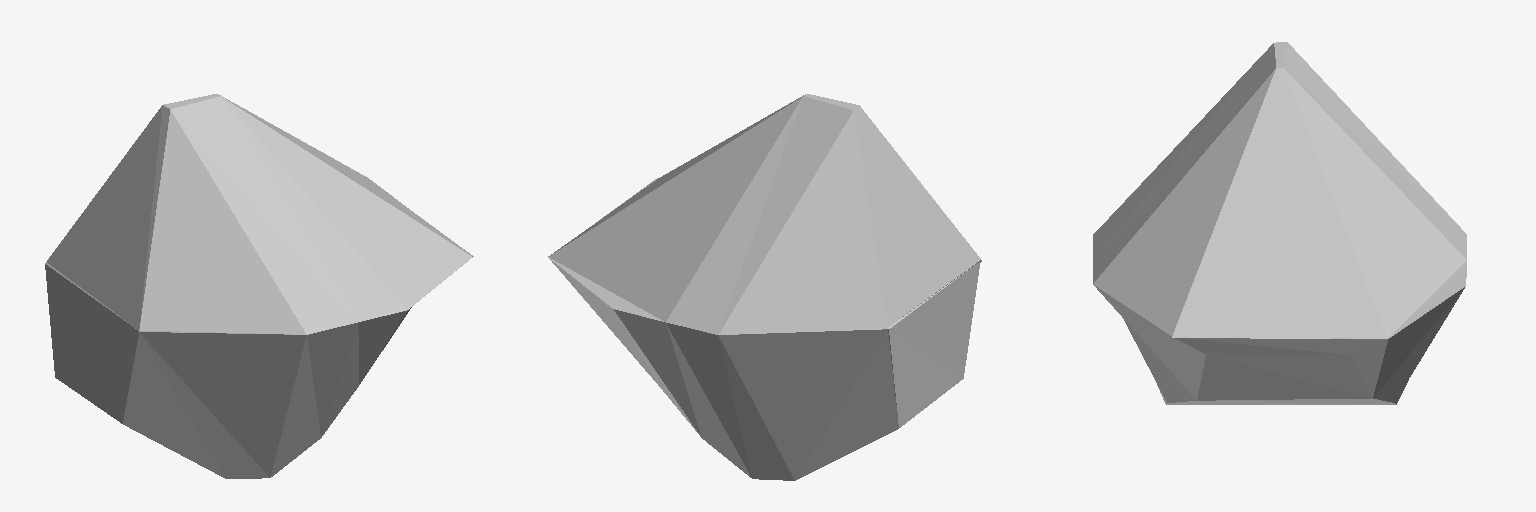
File: car.obj
The picture shows the model from 3 angles: view 1: azimuth 30°, elevation 25°; view 2: azimuth 150°, elevation 25°; view 3: azimuth 270°, elevation 25°; orthographic projection.
Visible parts, largest first — view 1: Cube; view 2: Cube; view 3: Cube.
Part boxes in pixels (x1,y1,x2,y2): Cube: (45,94,473,478); Cube: (548,94,981,480); Cube: (1093,42,1466,404).
Bounding box in the file's own units: 2.03 × 1.99 × 1.99.